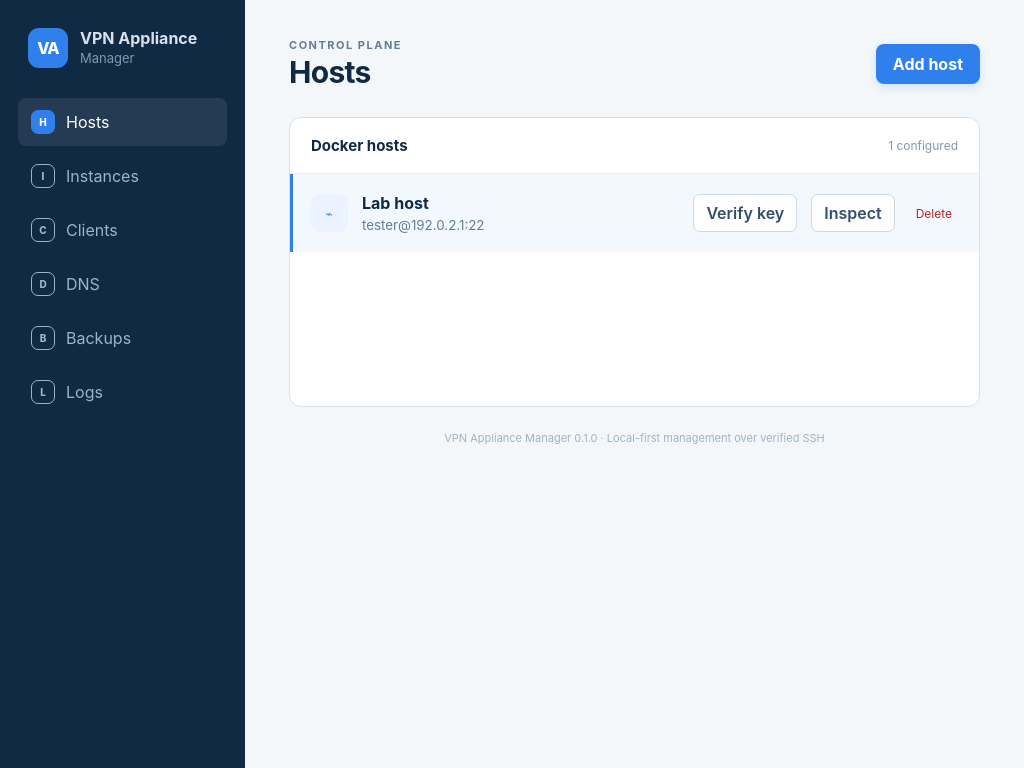
Test: desktop application workflows › loads lazily and keeps all global screens backend-aware
The image size is (1024, 768).
Expected: the text "Lab host" is shown, [362,193,429,213]
Click the button "I Instances" at (122, 176), box [18,152,227,200]
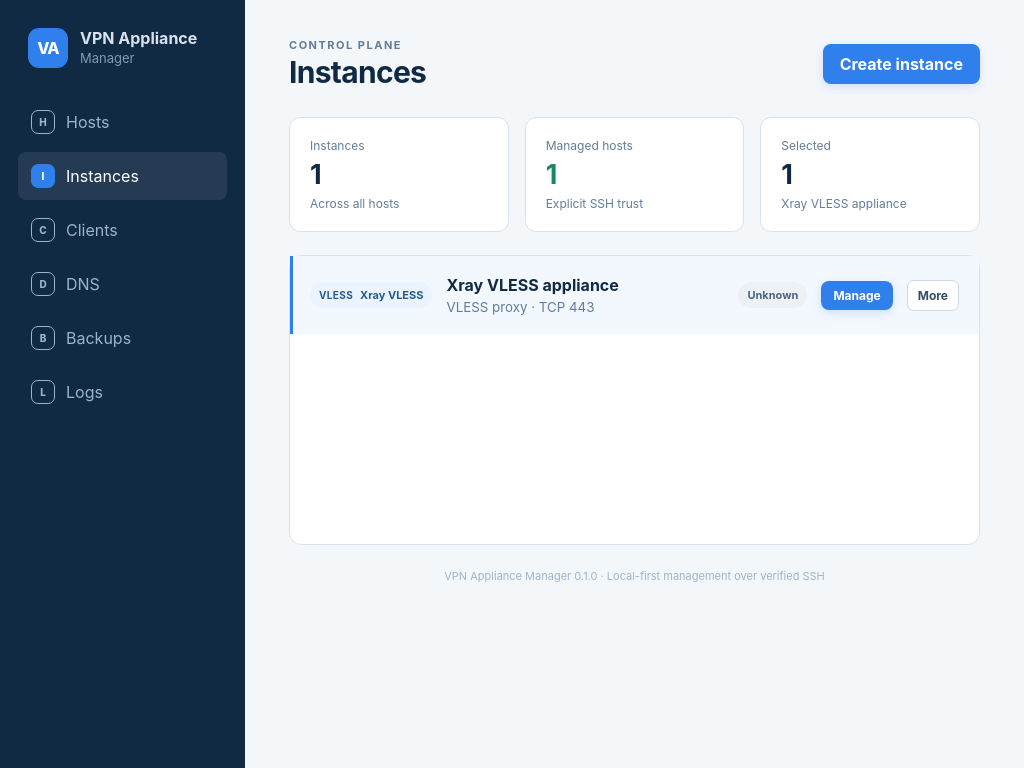
Now the text "Xray VLESS" is shown, box [360,288,423,302]
Now the button "Manage" is shown, box [821,280,893,310]
Click the button "C Clients" at (122, 230), box [18,206,227,254]
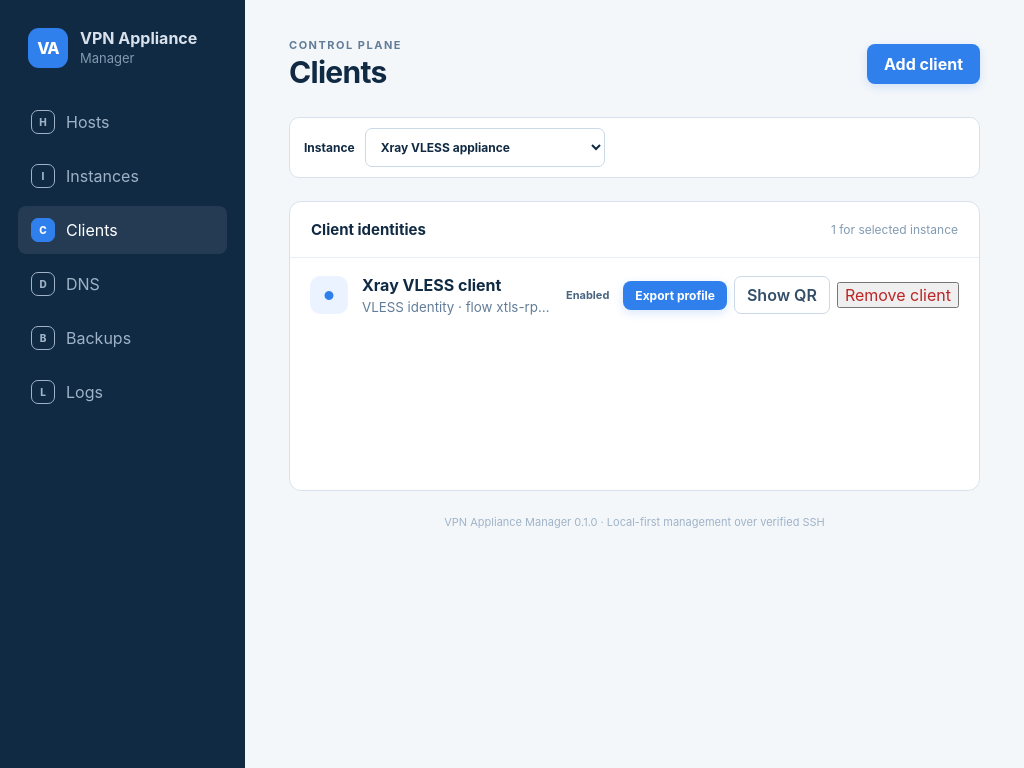
Now the text "Xray VLESS client" is shown, box [362,275,501,295]
Click the button "D DNS" at (122, 284), box [18,260,227,308]
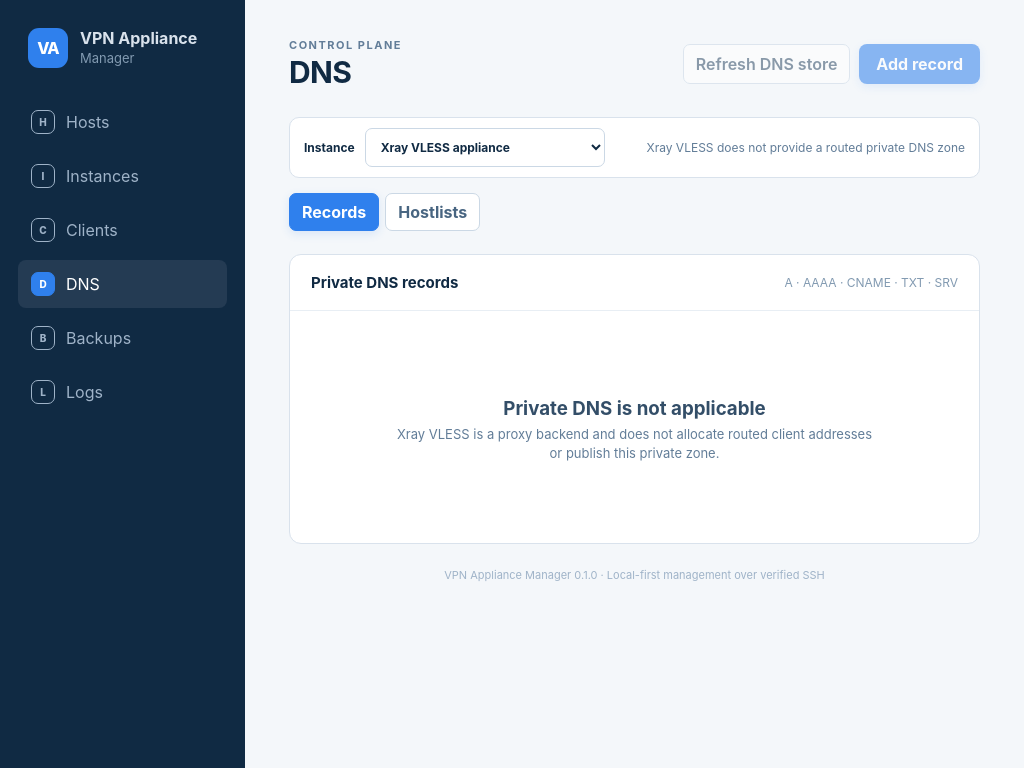
Now the heading "Private DNS is not applicable" is shown, box [503,396,766,420]
Now the text "Xray VLESS does not provide a routed private DNS zone" is shown, box [646,140,965,155]
Click the tab "Hostlists" at (433, 212), box [385,193,480,231]
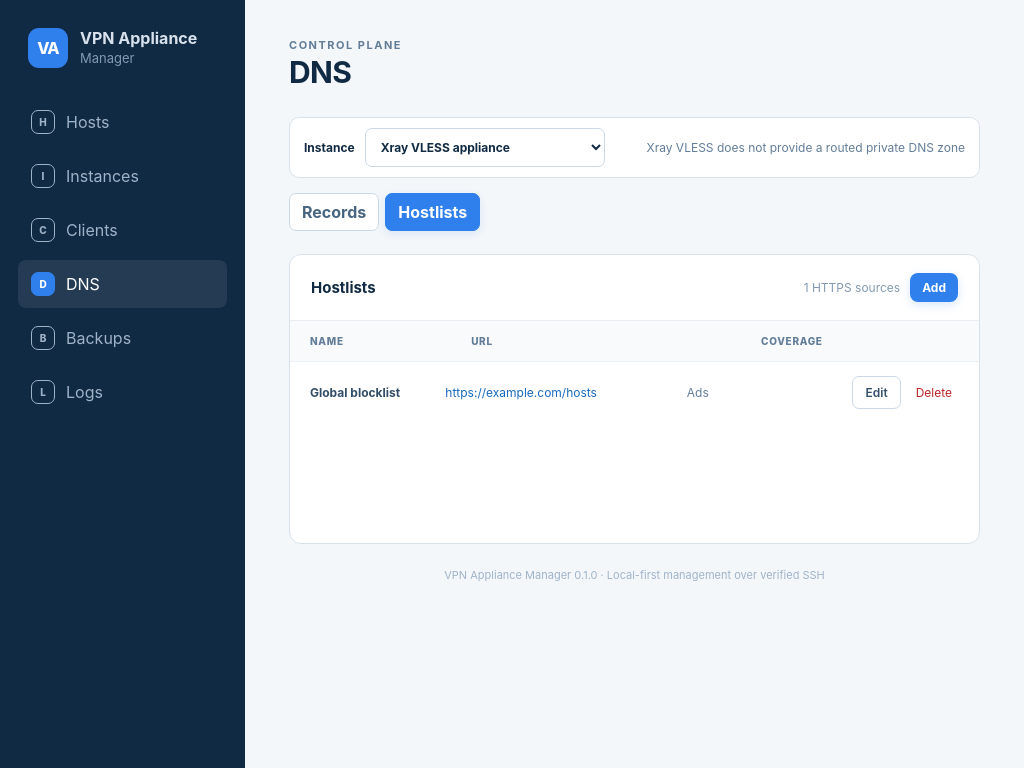
Now the text "Global blocklist" is shown, box [310,385,400,400]
Click the button "B Backups" at (122, 338), box [18,314,227,362]
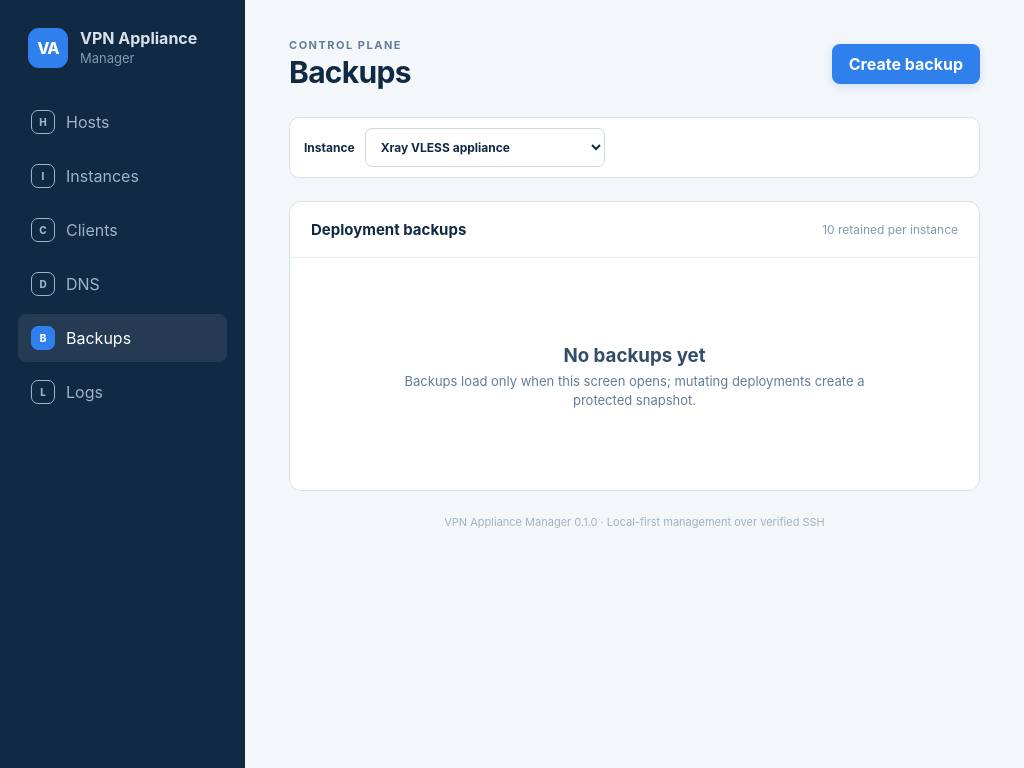
Now the heading "No backups yet" is shown, box [564,344,706,366]
Click the button "L Logs" at (122, 392), box [18,368,227,416]
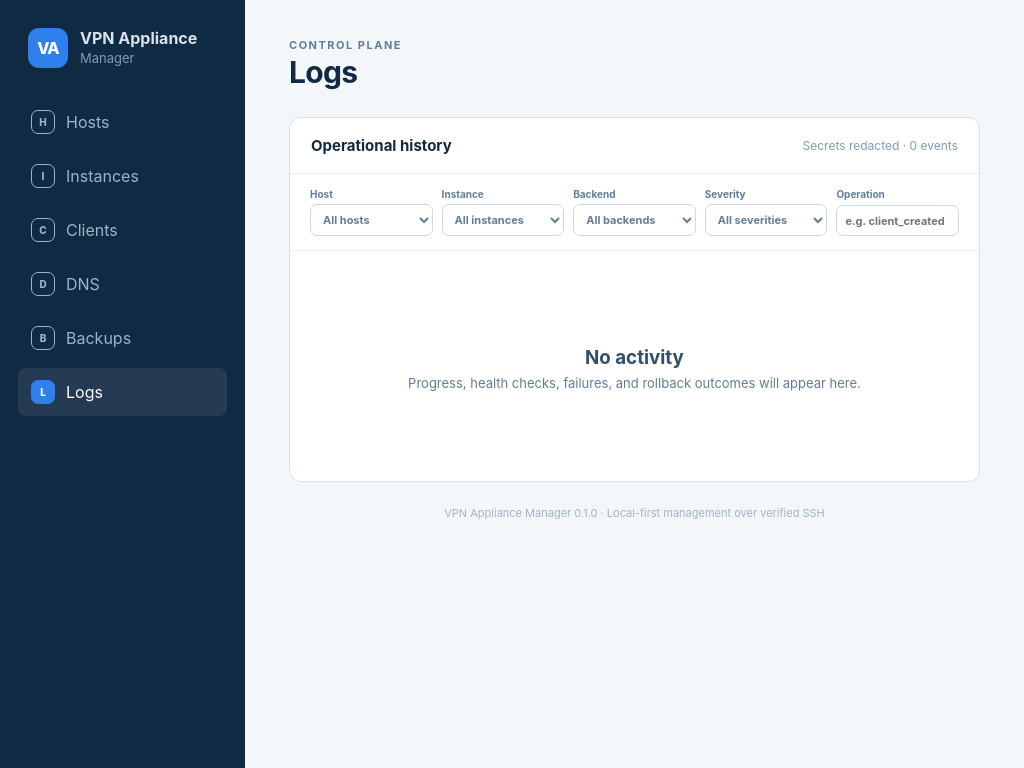
Now the heading "No activity" is shown, box [585,346,684,369]
